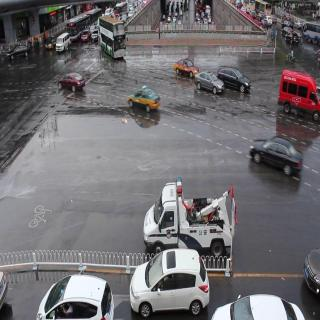BigCar: (92, 11, 132, 69), (66, 14, 92, 42)
Car: (144, 167, 243, 276), (124, 251, 215, 314), (31, 266, 119, 320), (248, 124, 308, 196), (279, 61, 320, 134), (207, 294, 307, 320), (213, 53, 257, 105), (126, 82, 164, 116), (192, 64, 223, 105), (301, 238, 320, 294), (61, 68, 91, 101), (171, 48, 197, 81), (5, 41, 32, 66), (303, 17, 320, 55), (54, 28, 71, 58), (284, 32, 303, 51), (44, 29, 56, 53), (264, 13, 275, 31), (81, 26, 90, 44), (282, 18, 293, 31)
